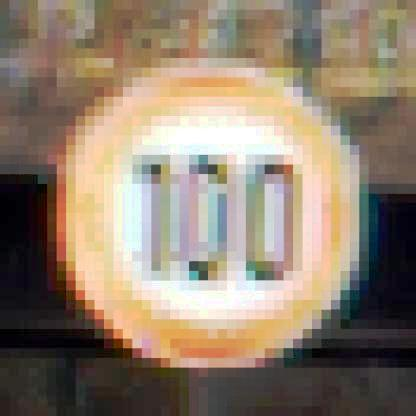Speed Limit -100-: (49, 65, 369, 369)
